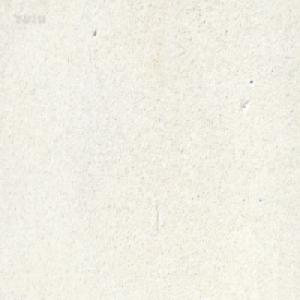Wrench: (161, 0, 167, 4)
